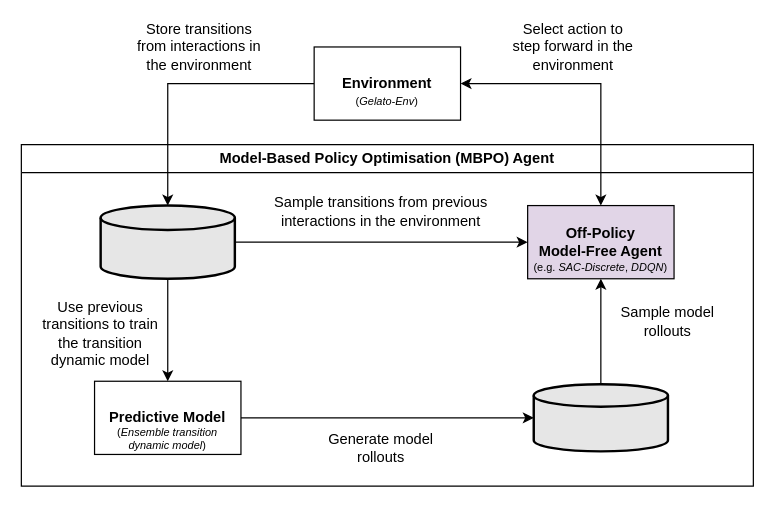
Image size: 775x508. Some labels were removed from this diagram. The centre of each missing label's shape, as x and y in pixels:
Replay Buffer for Environment: point (167, 241)
Replay Buffer for Model Rollouts: point (600, 417)
